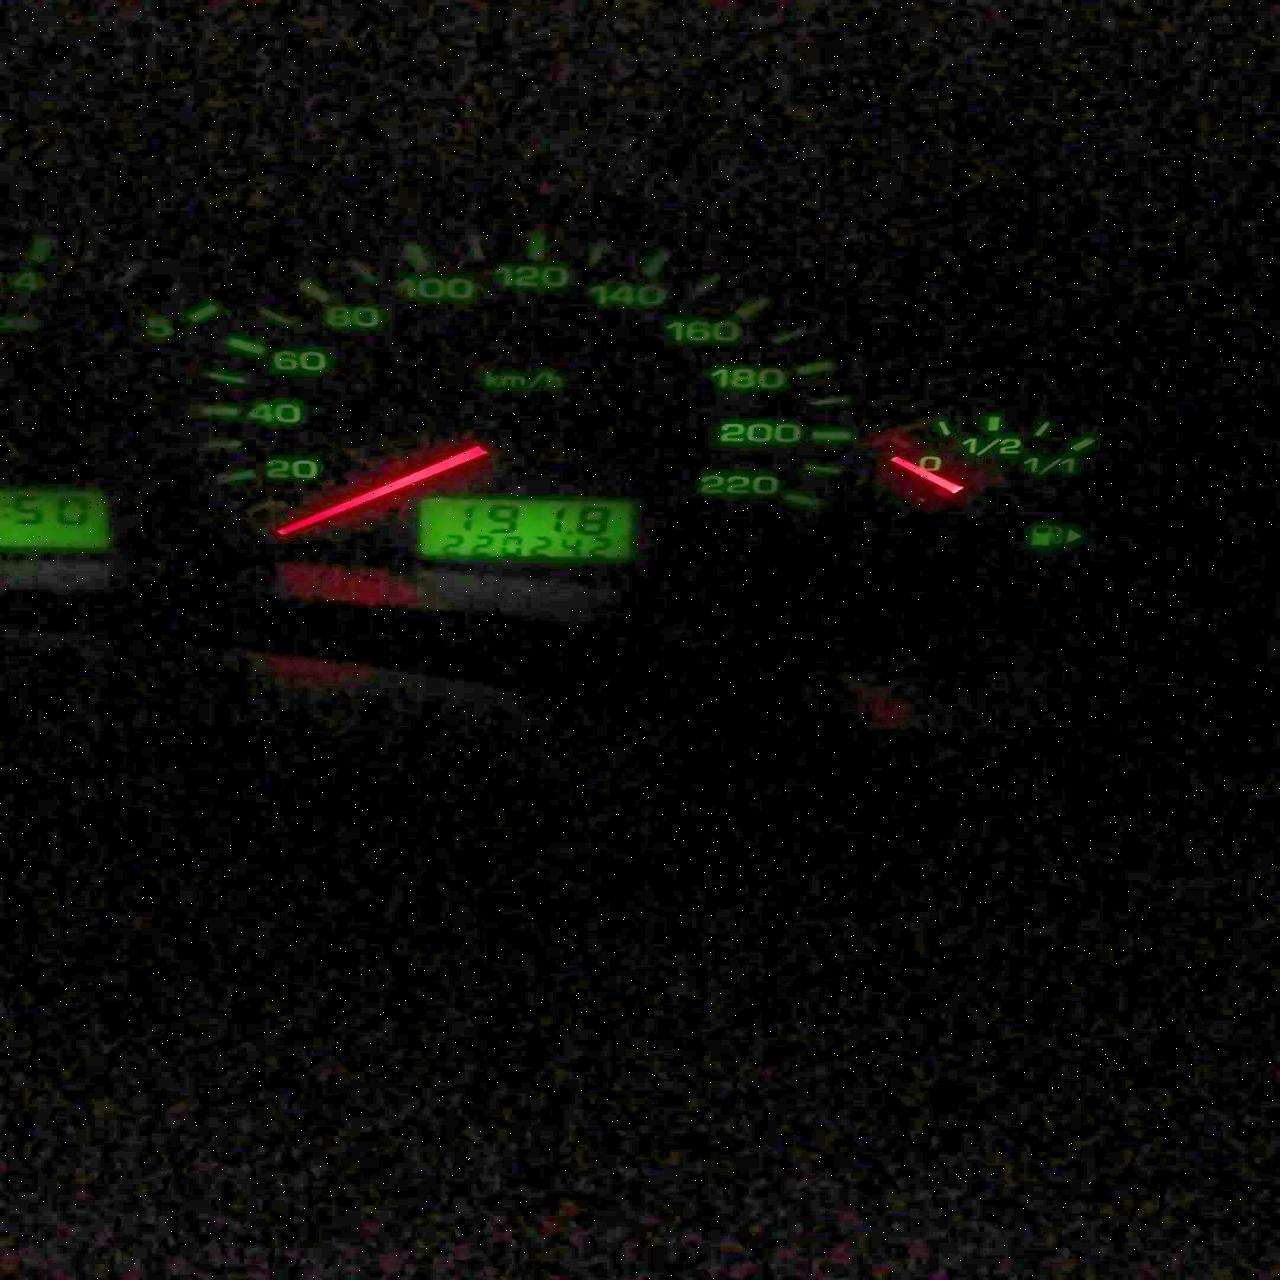-: (566, 530, 573, 535)
0: (501, 535, 523, 554)
1: (551, 504, 565, 532), (462, 505, 474, 530)
2: (469, 533, 492, 556), (441, 533, 463, 556), (527, 536, 551, 556), (587, 537, 610, 557)
4: (558, 538, 581, 558)
8: (577, 506, 608, 535)
9: (486, 504, 518, 532)
odometer: (413, 493, 636, 564)
